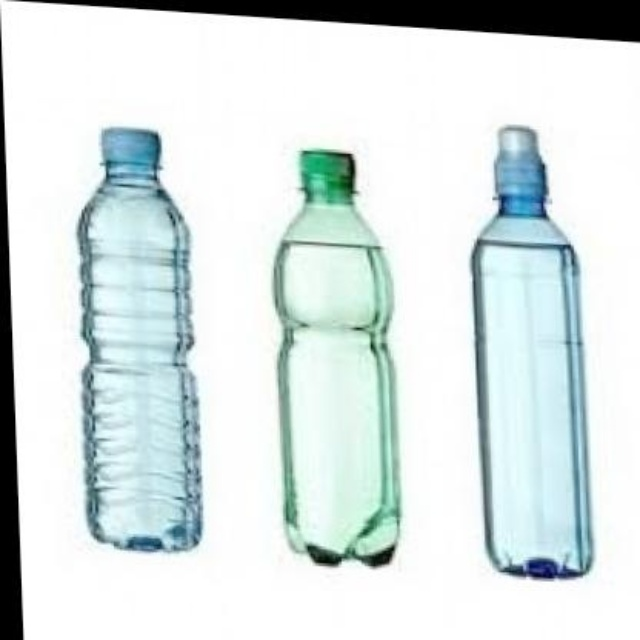trash: (472, 126, 589, 577), (78, 128, 200, 549), (274, 151, 398, 565)
